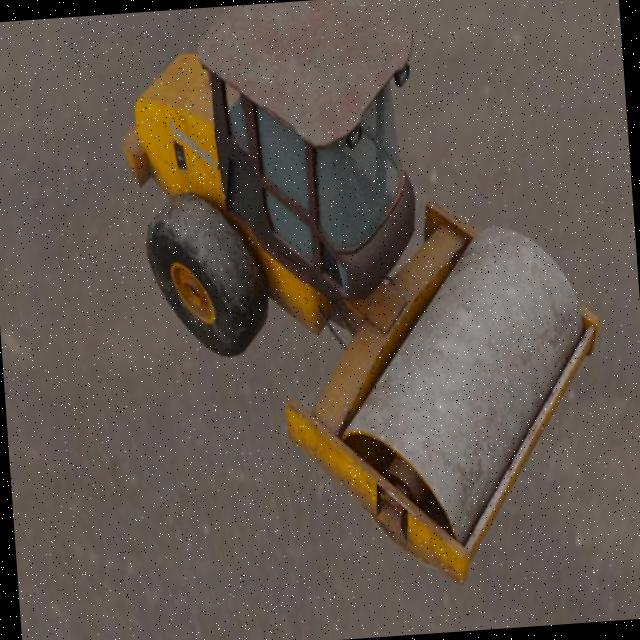Roller: (111, 0, 617, 607)
